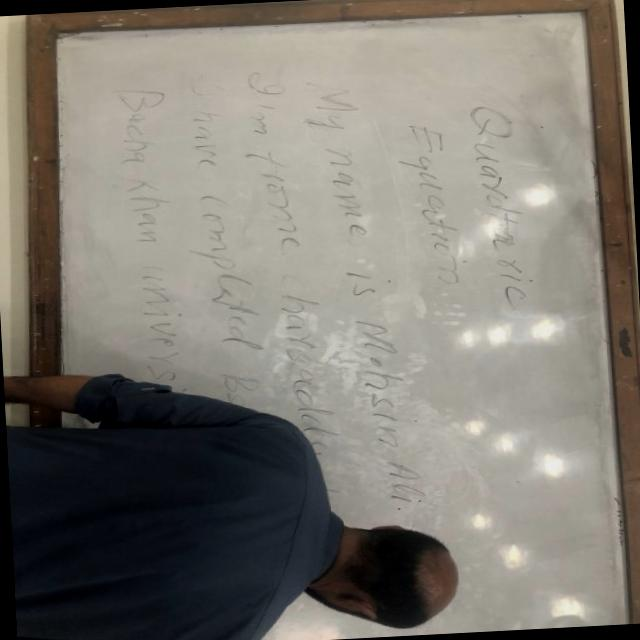Instructor: (6, 423, 457, 640)
White-board: (35, 0, 640, 640)
